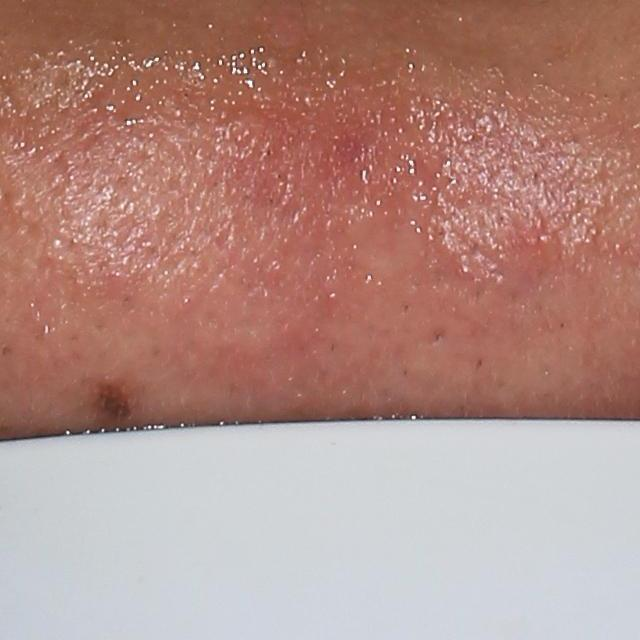nevus: (91, 377, 137, 422)
